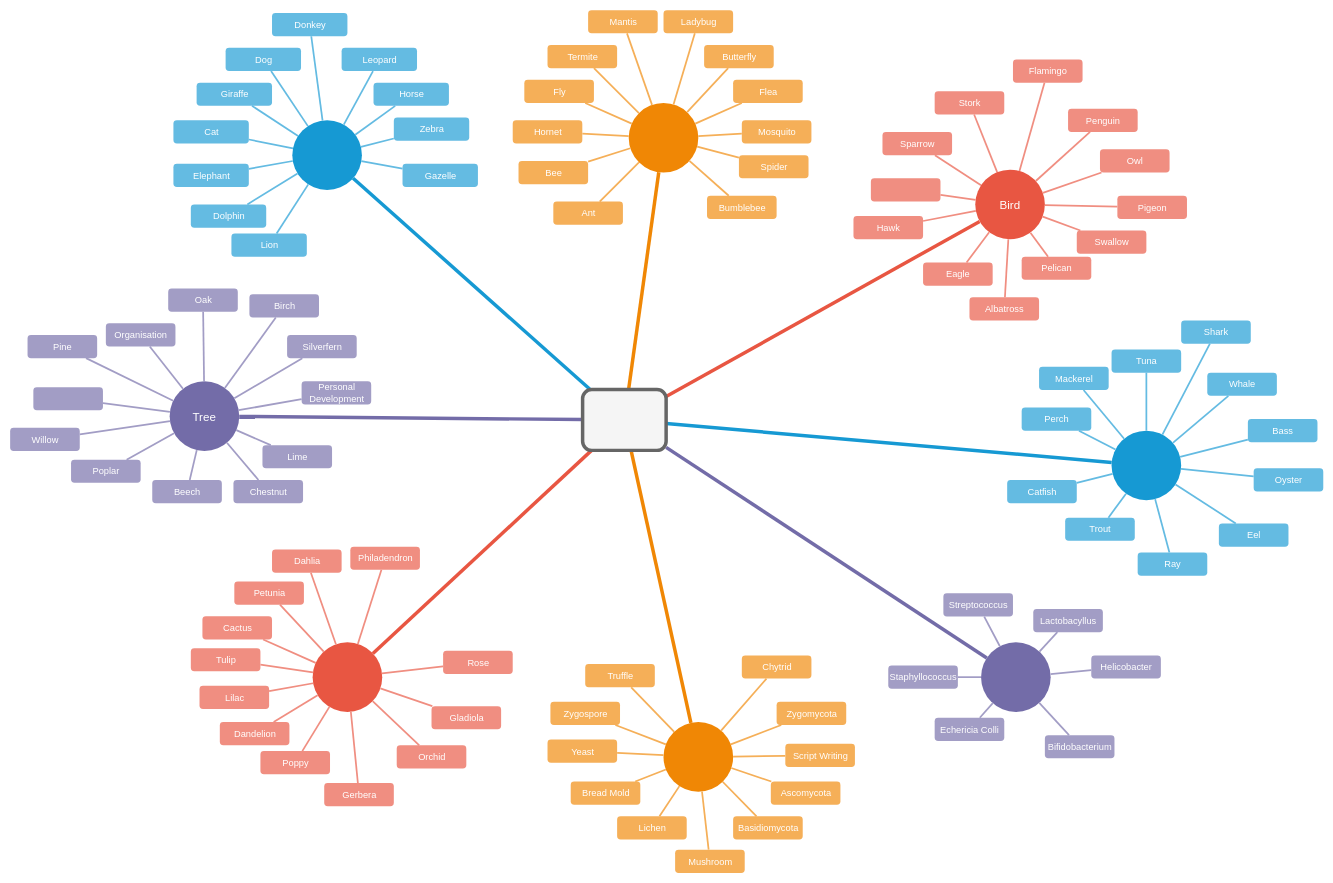
This 1333x883 diagram has some shape labels left out. Here are the shapes that lost their labels. From the top down, the box of each, then its label:
(292, 120, 362, 190): Mammal
(628, 103, 698, 172): Insect
(871, 178, 940, 201): Falcon
(33, 387, 103, 410): Acacia
(581, 387, 668, 452): LIVING BEINGS Click Here
(1111, 430, 1181, 500): Fish
(312, 642, 382, 712): Flower
(981, 642, 1050, 712): Bacteria
(663, 722, 733, 791): Fungi
